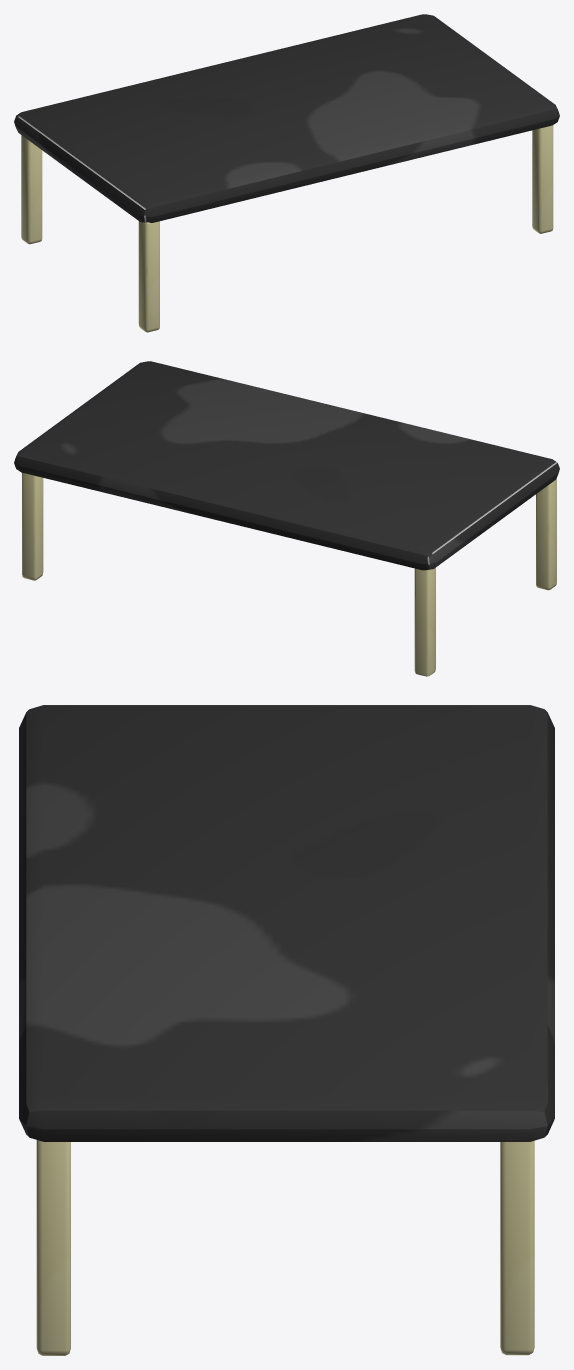
Rendered from Props_Table_01.fbx.
The picture shows the model from 3 angles, top to bottom: view 1: azimuth 30°, elevation 25°; view 2: azimuth 150°, elevation 25°; view 3: azimuth 270°, elevation 25°; orthographic projection. The views are drawn at different scales.
Visible parts, largest first — view 1: Props_Table_01; view 2: Props_Table_01; view 3: Props_Table_01.
Boxes of the visible parts, x1=… form: Props_Table_01: x1=14, y1=14, x2=559, y2=332; Props_Table_01: x1=14, y1=361, x2=559, y2=676; Props_Table_01: x1=19, y1=705, x2=554, y2=1355.
Size of the model in its own units: 200 by 58.24 by 110.
